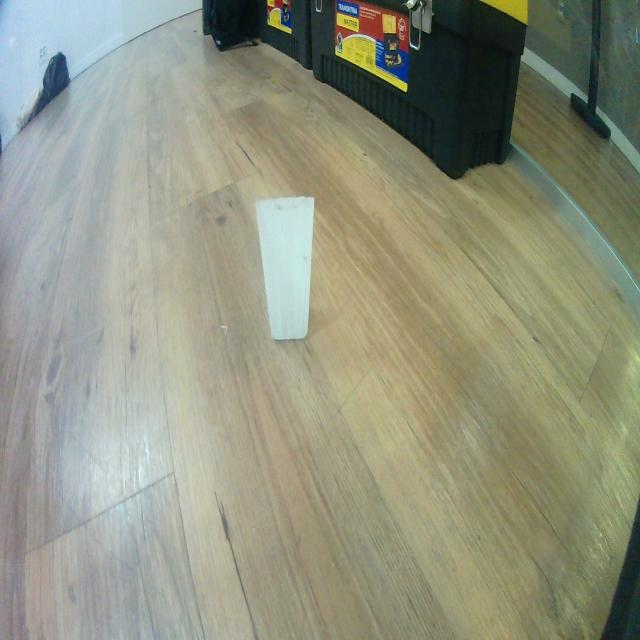erva_daninha: (255, 196, 315, 342)
